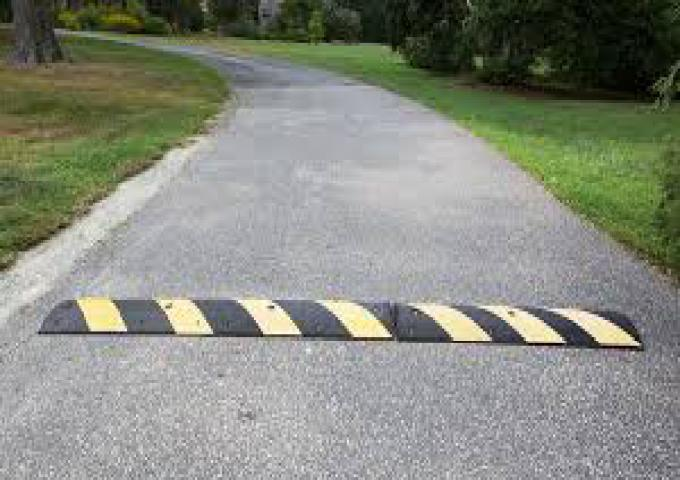speedbreaker: (23, 272, 653, 380)
